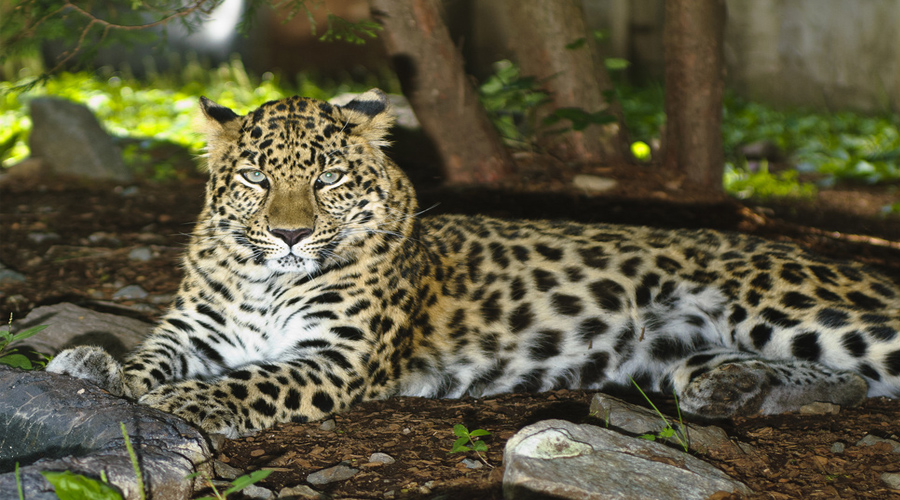amur_leopard: (165, 84, 433, 304)
